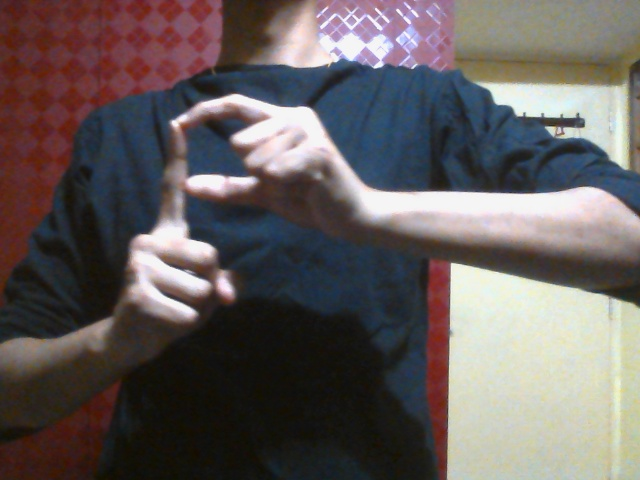P: (118, 92, 361, 367)
